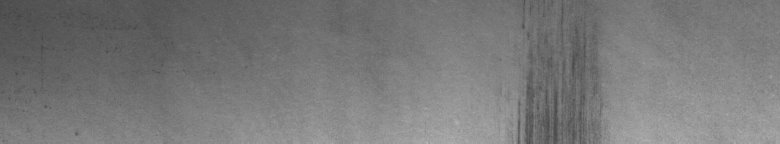ka: (512, 4, 583, 136)
